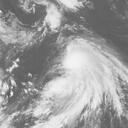cyclone: (50, 33, 113, 107)
